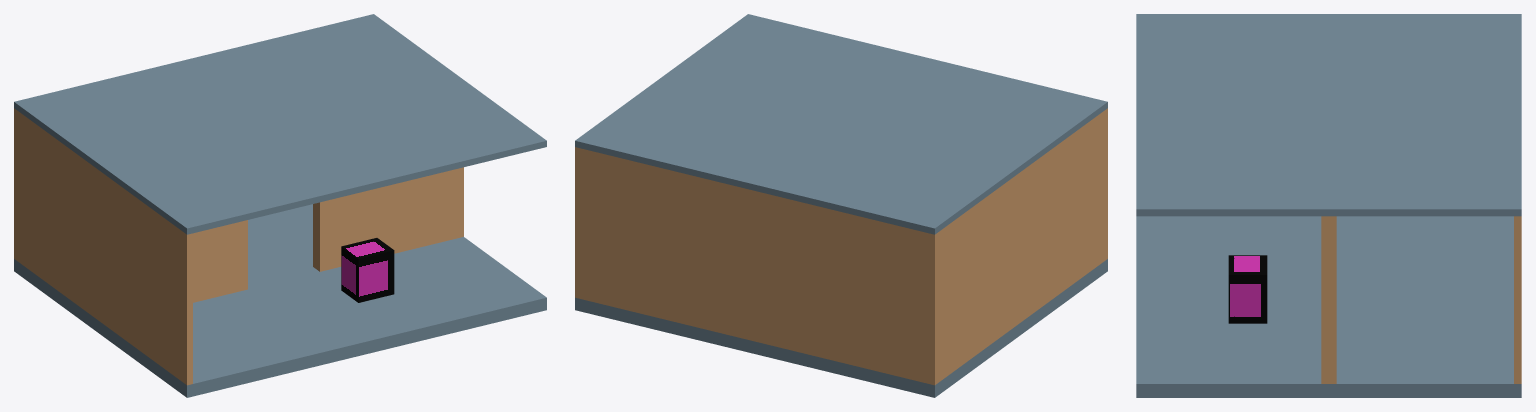
Rendered from recording-studio.glb.
3 renders of one model, left to right at view 1: azimuth 30°, elevation 25°; view 2: azimuth 150°, elevation 25°; view 3: azimuth 270°, elevation 25°, orthographic. The views are drawn at different scales.
Parts seen in each view (by area): view 1: Roof slab, Floor, Left wall, East doorway wall, West doorway wall, Recording desk; view 2: Roof slab, Rear wall, Left wall, Floor, West doorway wall; view 3: Roof slab, Floor, Recording desk, East doorway wall, Rear wall.
Boxes of the visible parts, x1,y1,x2,y2 form: Roof slab: (14, 14, 546, 234); Floor: (14, 204, 546, 397); Left wall: (14, 108, 192, 385); East doorway wall: (313, 167, 463, 271); West doorway wall: (97, 169, 247, 323); Recording desk: (341, 238, 394, 302); Roof slab: (575, 14, 1107, 234); Rear wall: (575, 147, 938, 385); Left wall: (929, 108, 1107, 384); Floor: (575, 259, 1107, 397); West doorway wall: (1018, 169, 1024, 323); Roof slab: (1136, 14, 1521, 216); Floor: (1136, 216, 1521, 397); Recording desk: (1228, 255, 1267, 323); East doorway wall: (1321, 216, 1336, 383); Rear wall: (1514, 216, 1521, 383).
Bounding box in the file's own units: 6 × 2.7 × 5.
Materials: 3 (1 with a texture image).
